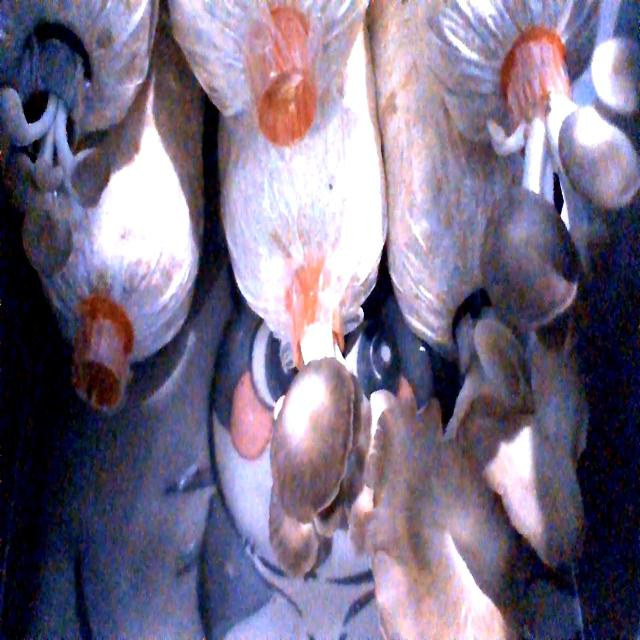big: (364, 305, 594, 636), (476, 40, 638, 331), (258, 331, 392, 563)
nfound: (63, 325, 135, 434), (265, 54, 317, 155)
small: (0, 83, 121, 261)
